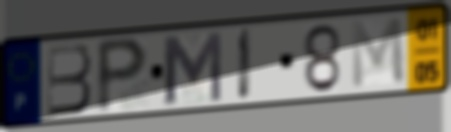8: (301, 22, 343, 94)
B: (45, 41, 95, 119)
I: (236, 26, 255, 103)
M: (158, 29, 225, 108), (348, 15, 409, 92)
P: (94, 35, 151, 117)
